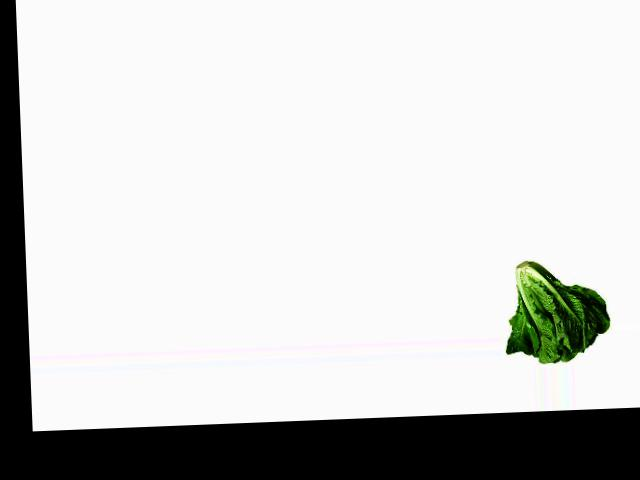lettuce: (504, 253, 613, 365)
